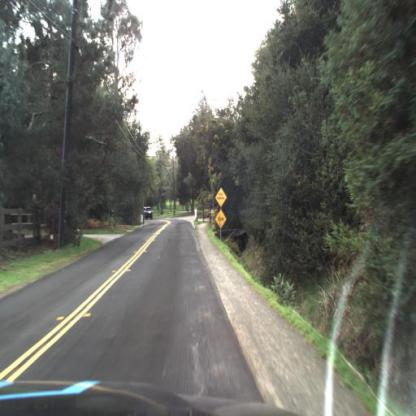car: (142, 205, 155, 224), (144, 206, 155, 220)
